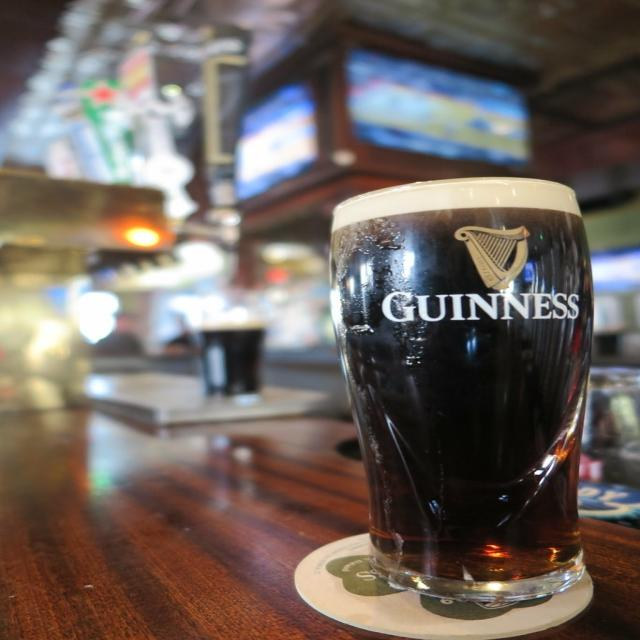guiness_full_glass: (336, 176, 594, 602)
